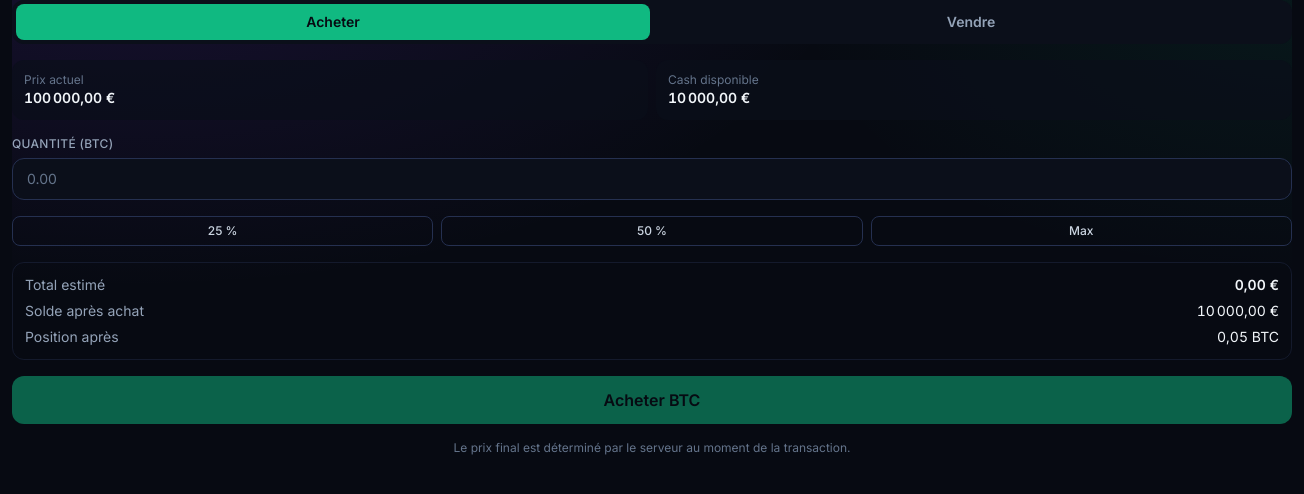
Test: TransactionForm › signale un solde insuffisant à l'achat
Type "1" into the field labelled "Quantité (BTC)" at point(652, 179), box left=12, top=158, right=1292, bottom=200
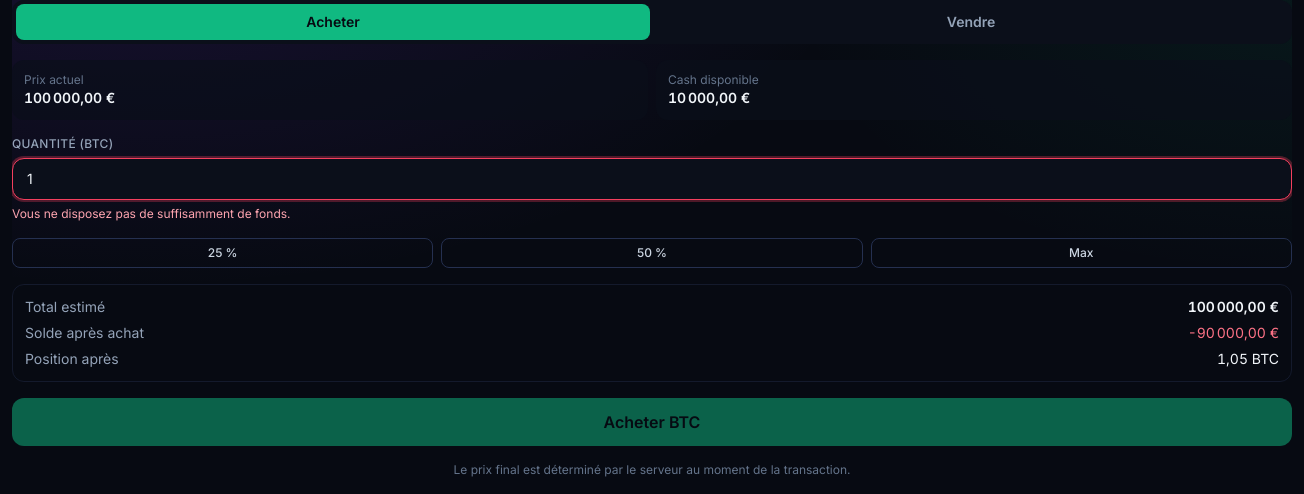
Expected: the button "Acheter BTC" is disabled, left=12, top=398, right=1292, bottom=446
Now the text "Vous ne disposez pas de suffisamment de fonds." is shown, box left=12, top=206, right=290, bottom=221
